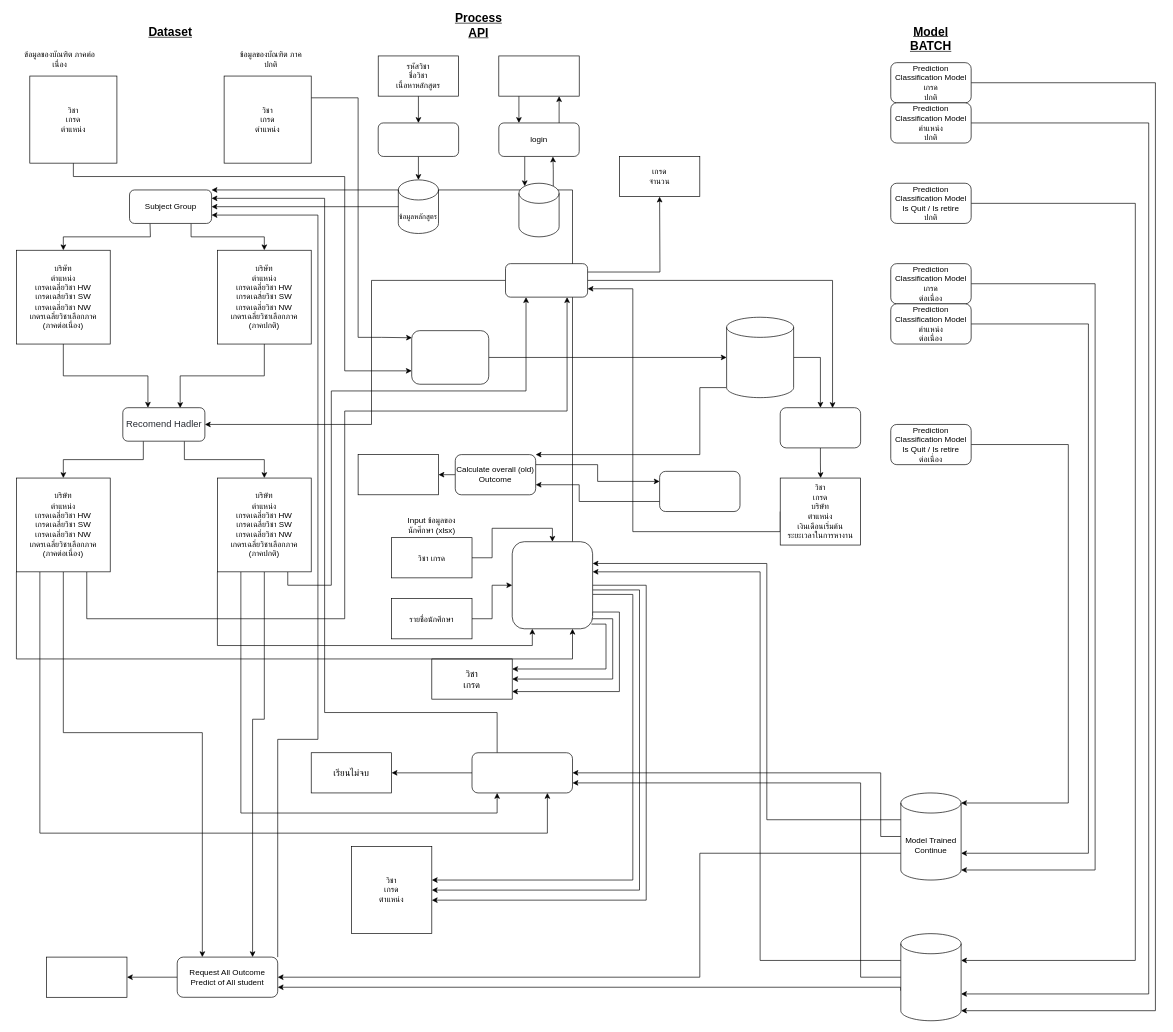
This 1173x1032 diagram has some shape labels left out. The centre of each missing label's shape, as x and y in pixels:
Add / Update /Edit to Database: (450,357)
Model Trained Normal: (930,977)
Occupation Group: (699,491)
Req All Prediction Handler: (552,585)
Req Is Retire Prediction: (522,772)
Req Predict Student InClass: (546,280)
Req Student InClass: (820,427)
Subject Add: (418,139)
User: (538,210)
Username Password: (538,75)
ฐานข้อมูล นศ: (760,357)
บริษัท ตำแหน่ง เงินเดือน: (398,474)
เกรด ตำแหน่ง เงินเดือนเริ่มต้น: (86,976)
